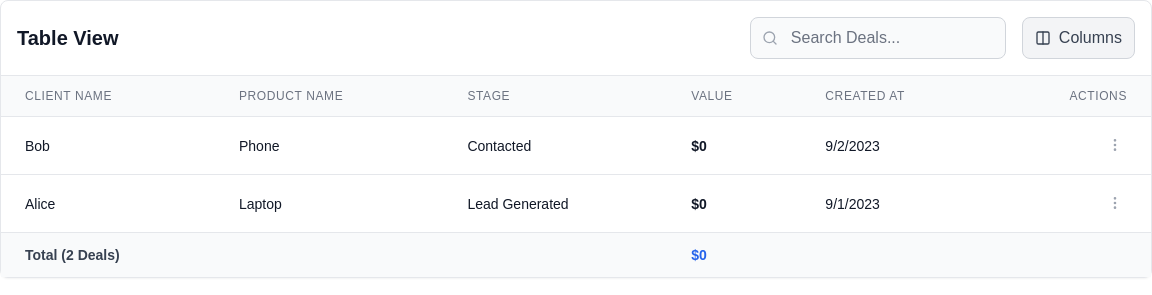
Test: DealTable Integration › filters deals by search query
In the field with placeholder "Search Deals...": (878, 38) [750,17,1006,59], type "Alice"
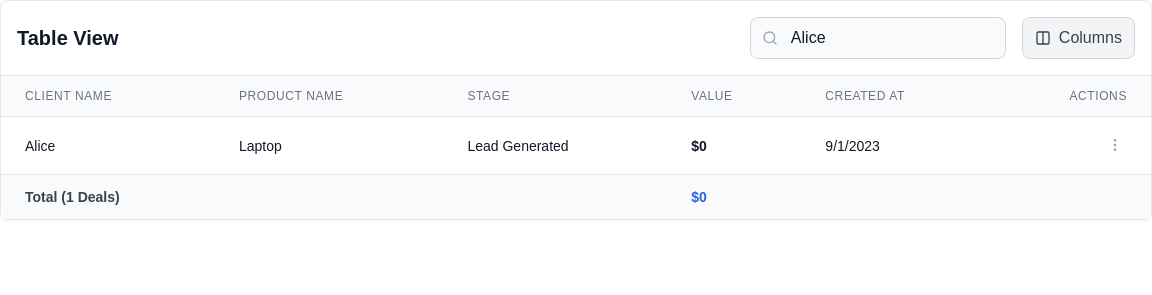
Expected: the text "Alice" is shown, [1,116,215,174]
Now the text "Bob" is gone
